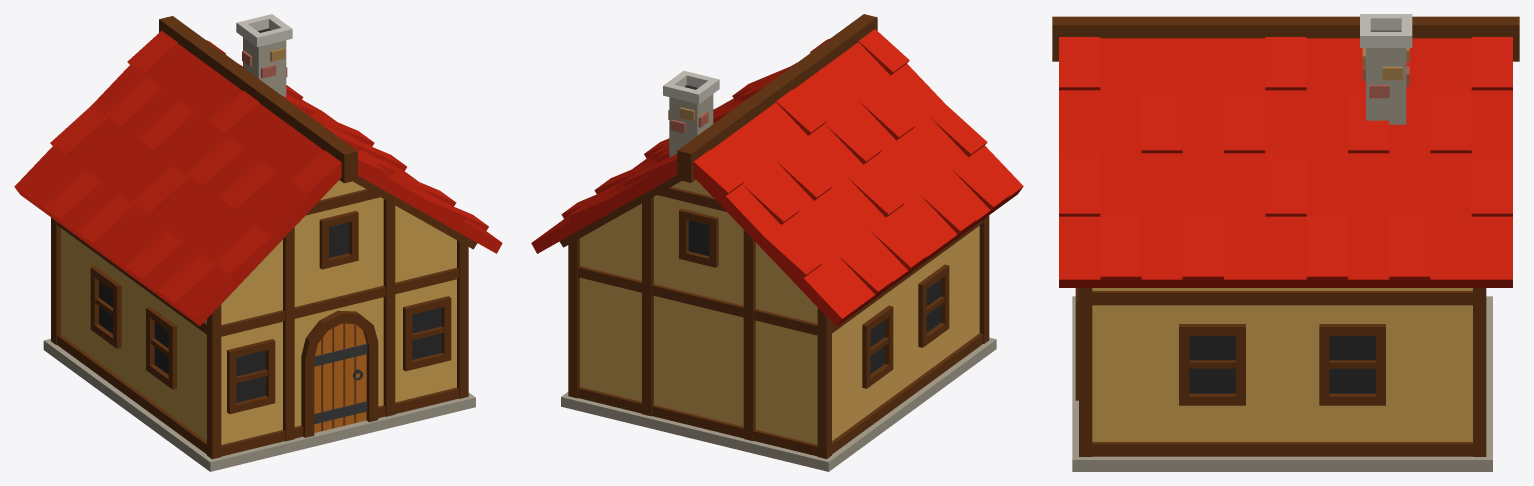
The model's file is house.FBX.
3 renders of one model, left to right at view 1: azimuth 30°, elevation 25°; view 2: azimuth 150°, elevation 25°; view 3: azimuth 270°, elevation 25°, orthographic. The views are drawn at different scales.
Parts seen in each view (by area): view 1: House_01, House_01_Door; view 2: House_01; view 3: House_01.
Boxes of the visible parts, x1,y1,x2,y2 form: House_01: (14,14,502,471); House_01_Door: (314,323,367,432); House_01: (531,14,1023,471); House_01: (1052,14,1519,471).
Bounding box in the file's own units: 686 × 700 × 650.
2 materials, 2 textured.
